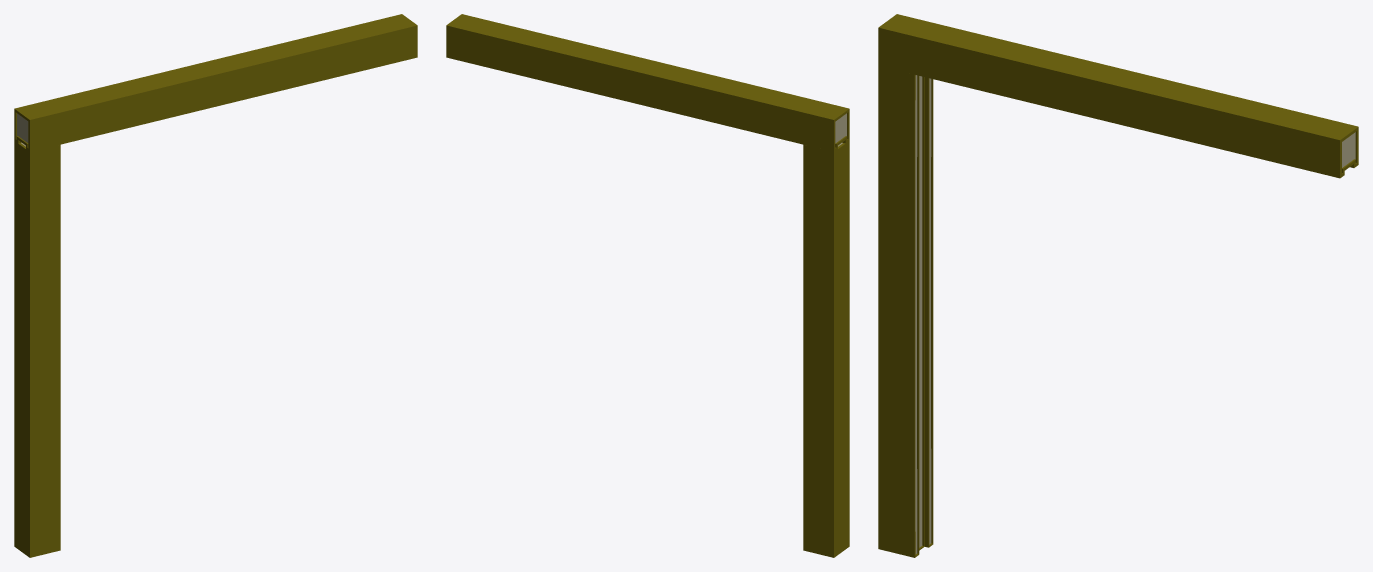
Rendered from Wooden_Strut_duo.fbx.
The picture shows the model from 3 angles, left to right: view 1: azimuth 30°, elevation 25°; view 2: azimuth 150°, elevation 25°; view 3: azimuth 330°, elevation 25°; orthographic projection. The views are drawn at different scales.
Visible parts, largest first — view 1: Wood_Strut3; view 2: Wood_Strut3; view 3: Wood_Strut3.
Part boxes in pixels (x1,y1,x2,y2): Wood_Strut3: [14, 14, 417, 557]; Wood_Strut3: [446, 14, 849, 557]; Wood_Strut3: [878, 14, 1358, 557].
Size of the model in its own units: 23.59 by 25.45 by 1.65.
